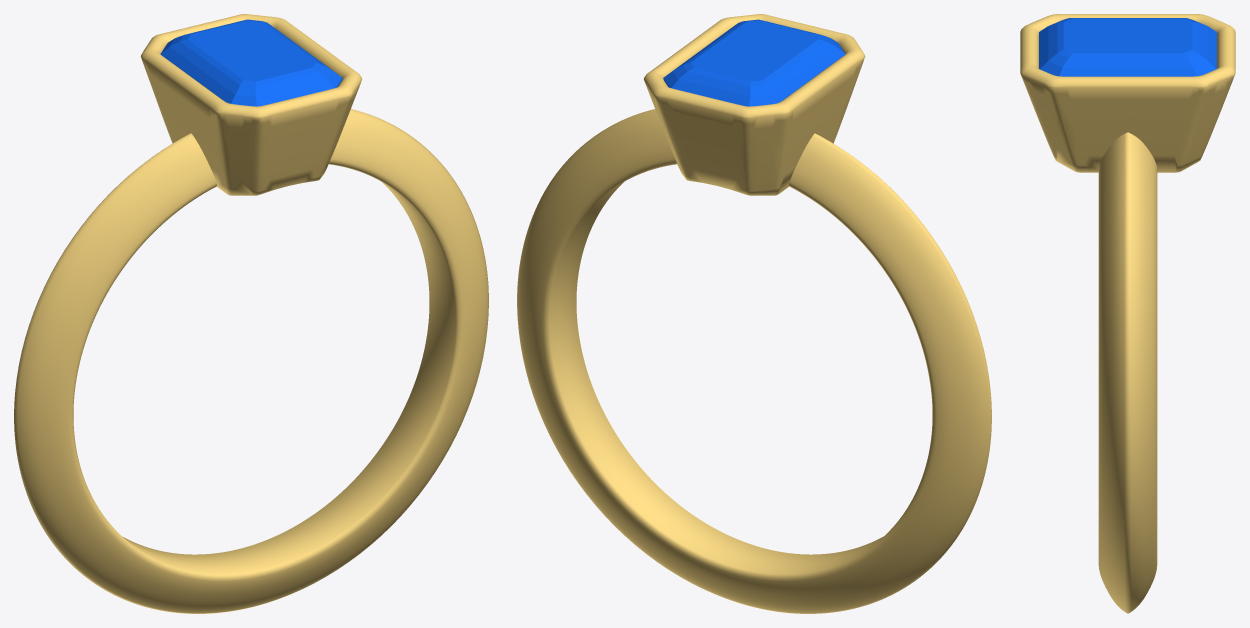
File: bluesapphire-emerald-yellowgold-bezelset-knifeedge-solitaire.glb
3 renders of one model, left to right at view 1: azimuth 30°, elevation 25°; view 2: azimuth 150°, elevation 25°; view 3: azimuth 270°, elevation 25°, orthographic.
Parts seen in each view (by area): view 1: metal.001, stone; view 2: metal.001, stone; view 3: metal.001, stone.
Boxes of the visible parts, box(x1,y1,x2,y2) form: metal.001: box(14, 14, 488, 613); stone: box(160, 19, 342, 106); metal.001: box(517, 14, 991, 613); stone: box(663, 19, 845, 106); metal.001: box(1020, 14, 1235, 613); stone: box(1039, 18, 1216, 76).
Bounding box in the file's own units: 20.5 × 22.94 × 8.11.
